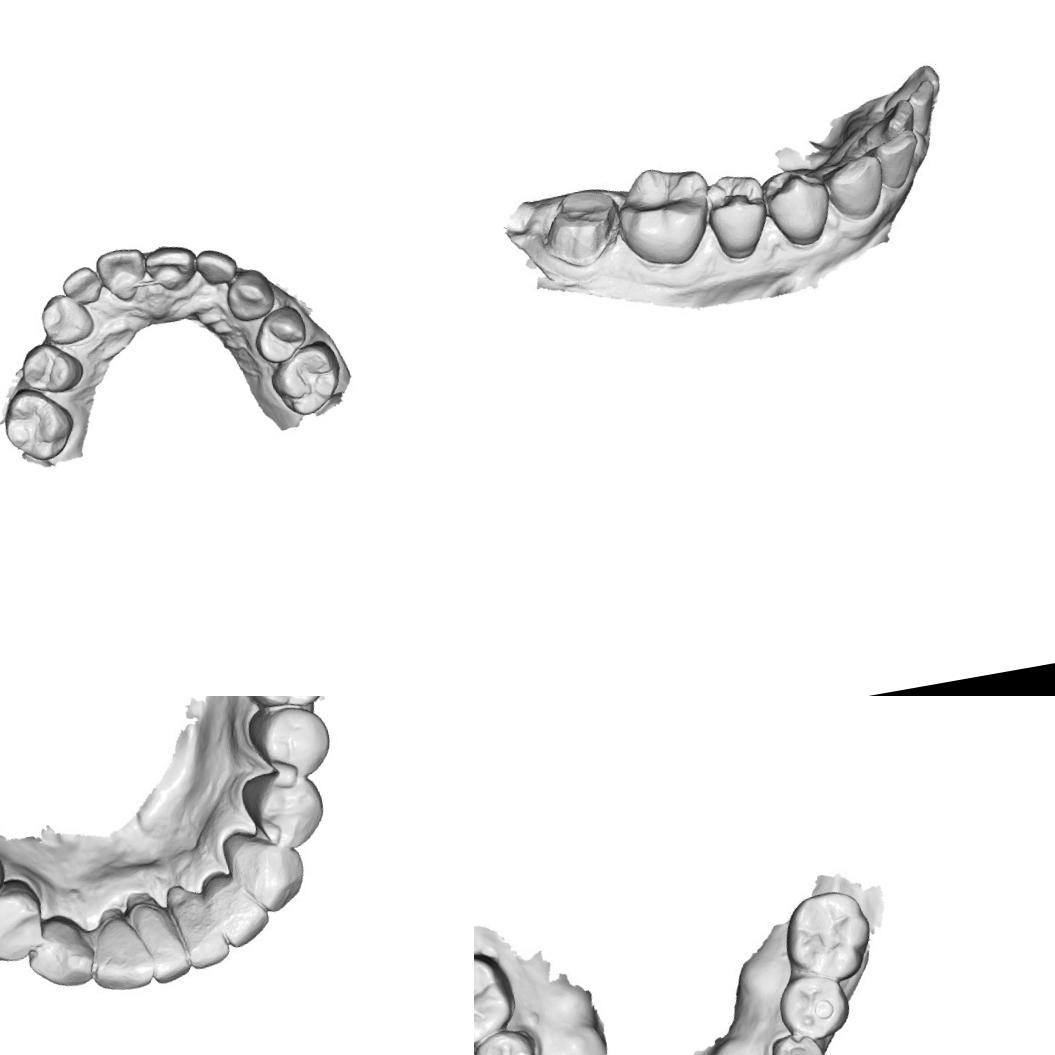canine: (219, 822, 308, 913), (21, 902, 100, 993), (822, 142, 888, 222), (34, 286, 98, 348), (220, 266, 280, 325)
crown: (528, 170, 628, 276)
incisor: (86, 900, 160, 998), (121, 884, 190, 986), (202, 864, 279, 953), (166, 876, 234, 972), (91, 243, 151, 306), (874, 127, 930, 194), (140, 238, 200, 296), (898, 75, 944, 138), (189, 242, 242, 290), (878, 95, 922, 148), (57, 262, 104, 309)
molar: (612, 158, 718, 271), (782, 888, 874, 987), (263, 337, 347, 421), (0, 379, 79, 467), (474, 949, 518, 1050)
premolar: (236, 763, 328, 852), (244, 696, 337, 784), (764, 162, 834, 249), (704, 172, 772, 260), (0, 872, 55, 965), (780, 971, 851, 1040), (15, 335, 88, 399), (248, 300, 311, 368), (474, 1029, 540, 1055), (771, 1031, 832, 1055)
